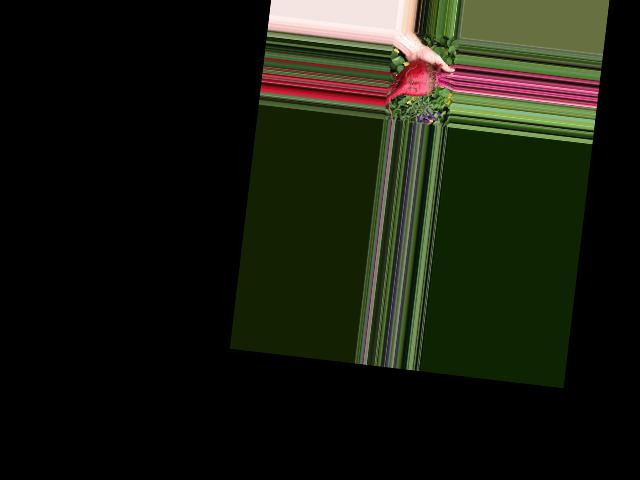beet: (384, 57, 456, 113)
